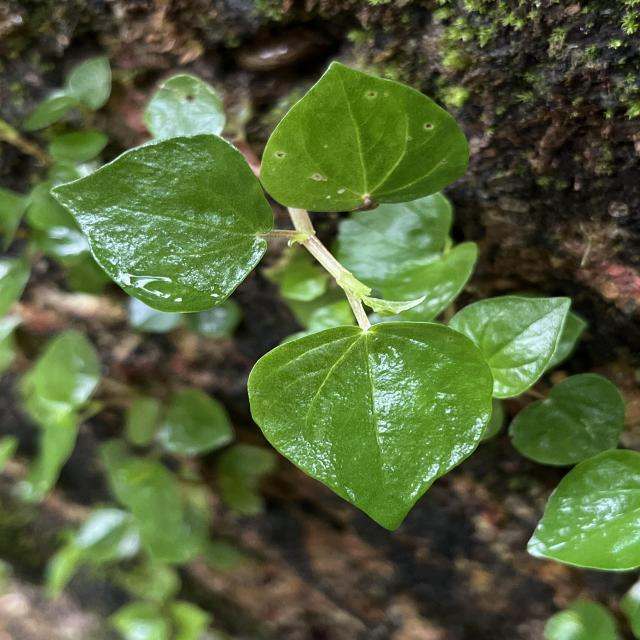Peperomia pellucida: (246, 319, 497, 533), (49, 132, 276, 316), (257, 60, 472, 214)
